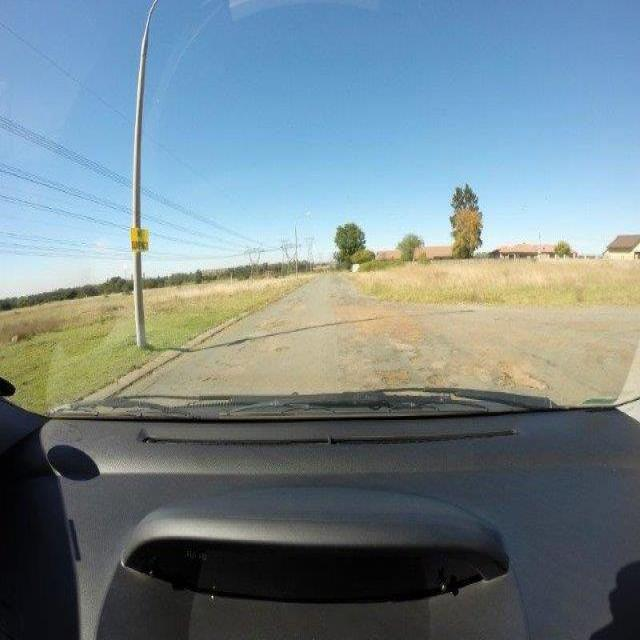lubang: (332, 294, 432, 362), (490, 356, 555, 396), (379, 312, 431, 355), (369, 362, 417, 390), (253, 310, 291, 344), (421, 364, 458, 392), (195, 368, 227, 388), (271, 339, 294, 359)
